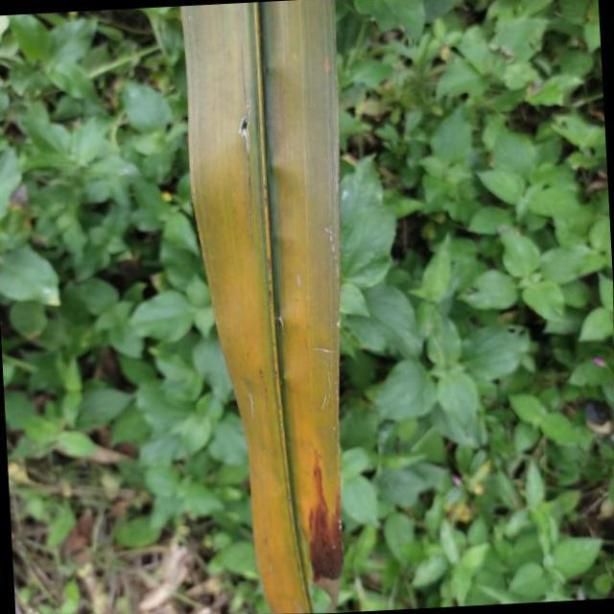Megnesium: (177, 0, 347, 614)
